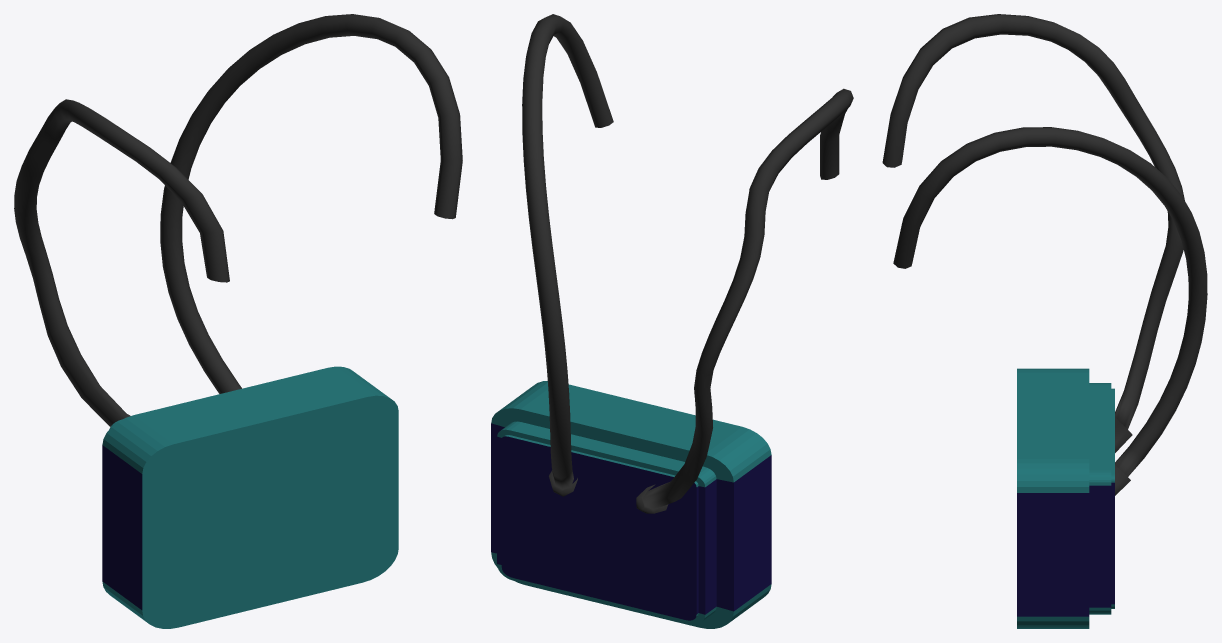
The model's file is untitled.blendloh.fbx.
3 views of the same model, side by side, from view 1: azimuth 30°, elevation 25°; view 2: azimuth 150°, elevation 25°; view 3: azimuth 270°, elevation 25° (orthographic). The views are drawn at different scales.
Parts seen in each view (by area): view 1: Cube, NurbsPath, NurbsPath.001; view 2: Cube, NurbsPath, NurbsPath.001; view 3: Cube, NurbsPath, NurbsPath.001.
Part boxes in pixels (<box>): Cube: <box>102,366,398,628</box>; NurbsPath: <box>160,14,462,393</box>; NurbsPath.001: <box>14,99,229,426</box>; Cube: <box>491,381,771,628</box>; NurbsPath: <box>522,14,613,496</box>; NurbsPath.001: <box>636,88,853,513</box>; Cube: <box>1017,368,1114,628</box>; NurbsPath: <box>893,127,1207,495</box>; NurbsPath.001: <box>882,14,1184,452</box>.
Size of the model in its own units: 51.88 by 84.28 by 49.2.
